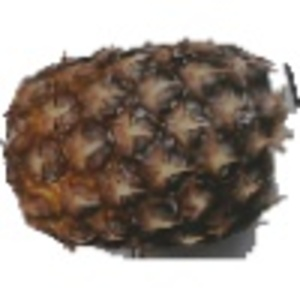abacaxi: (1, 34, 286, 247)
